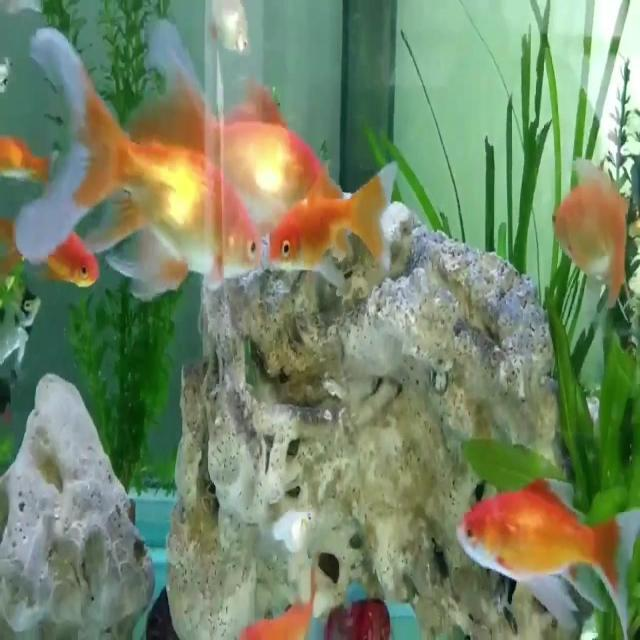GoldFish: (11, 22, 265, 302), (450, 466, 640, 640), (255, 150, 404, 316)
